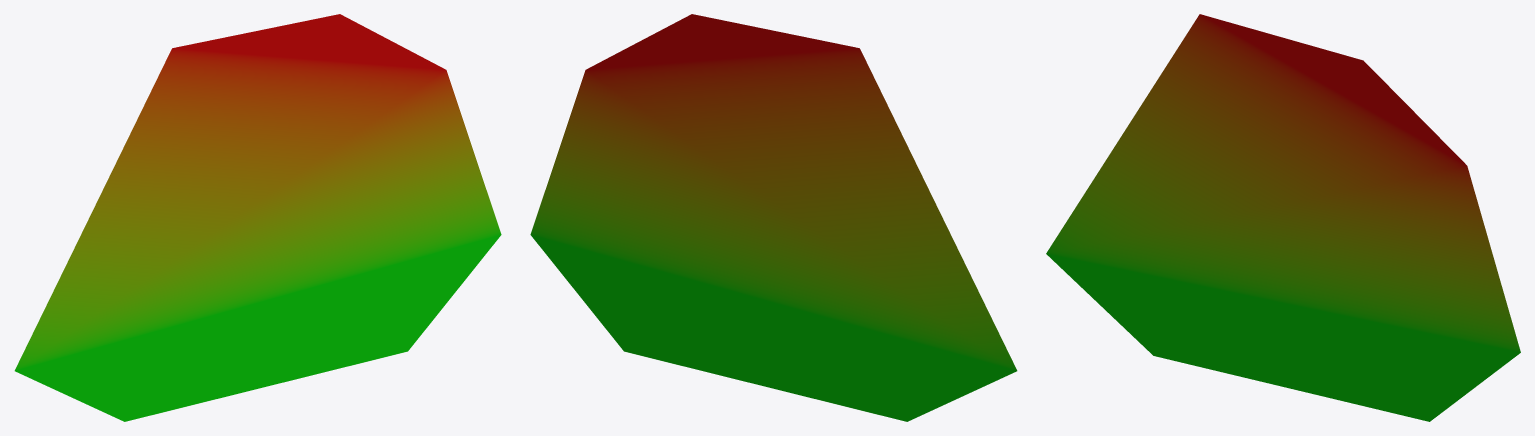
File: Thatching Grass_LOD4_Var12_uddmcgbia.fbx
The picture shows the model from 3 angles, left to right: view 1: azimuth 30°, elevation 25°; view 2: azimuth 150°, elevation 25°; view 3: azimuth 330°, elevation 25°; orthographic projection. The views are drawn at different scales.
Visible parts, largest first — view 1: _c1a3_Var12_LOD4; view 2: _c1a3_Var12_LOD4; view 3: _c1a3_Var12_LOD4.
Boxes of the visible parts, <box> form: _c1a3_Var12_LOD4: <box>14,14,501,421</box>; _c1a3_Var12_LOD4: <box>530,14,1017,421</box>; _c1a3_Var12_LOD4: <box>1046,14,1520,421</box>.
Bounding box in the file's own units: 16.44 × 11.68 × 1.34e-06.
